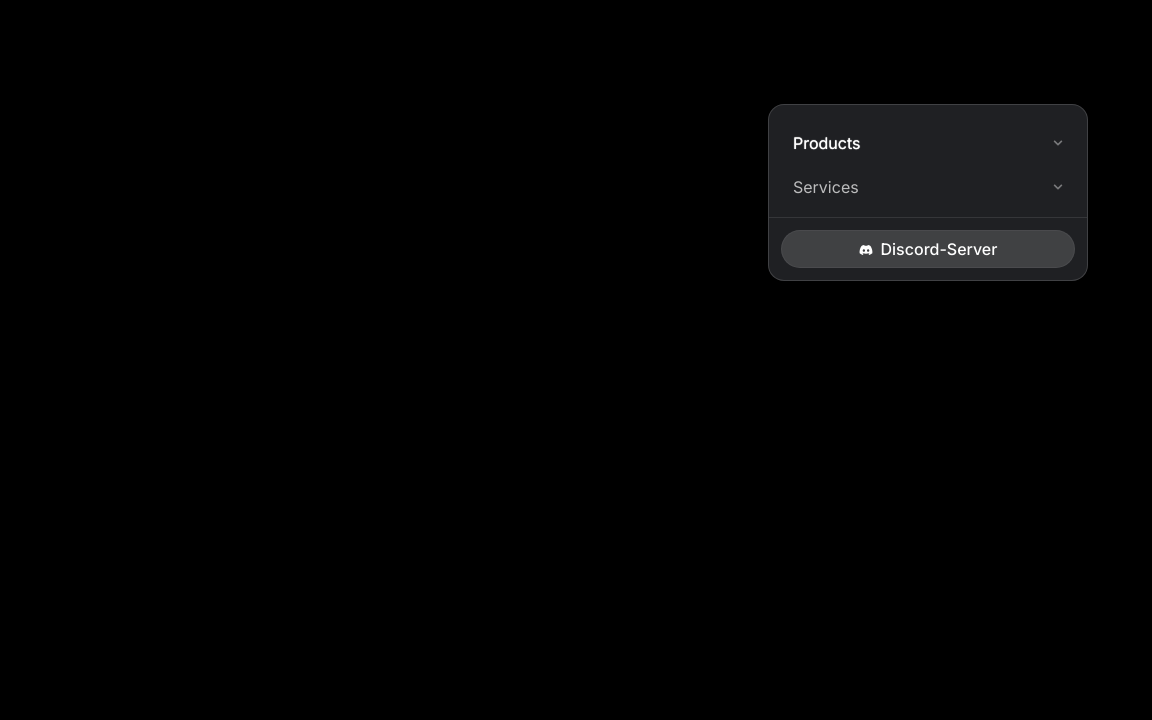
Test: HeaderMobileNav › should render external link indicator when isExternal is true
// Expand first item
Click the button "Products" at (827, 143), box [769,121,1087,165]
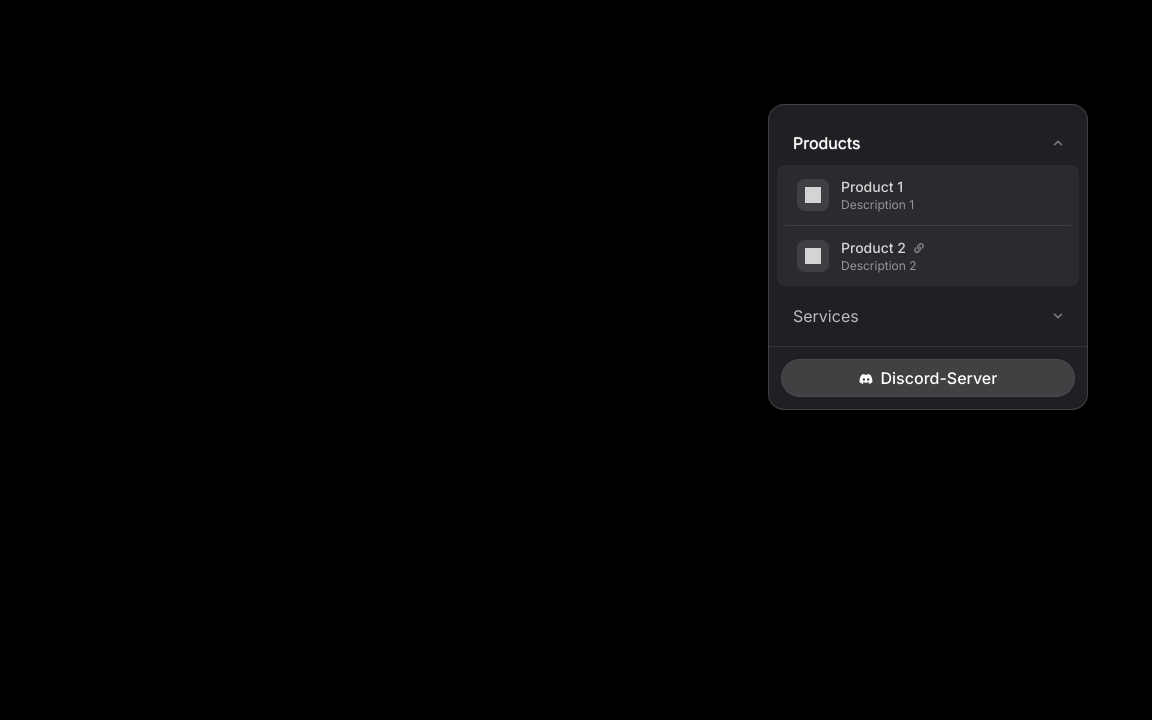
Expected: the icon next to "Product 2" is shown, [914,243,924,253]
